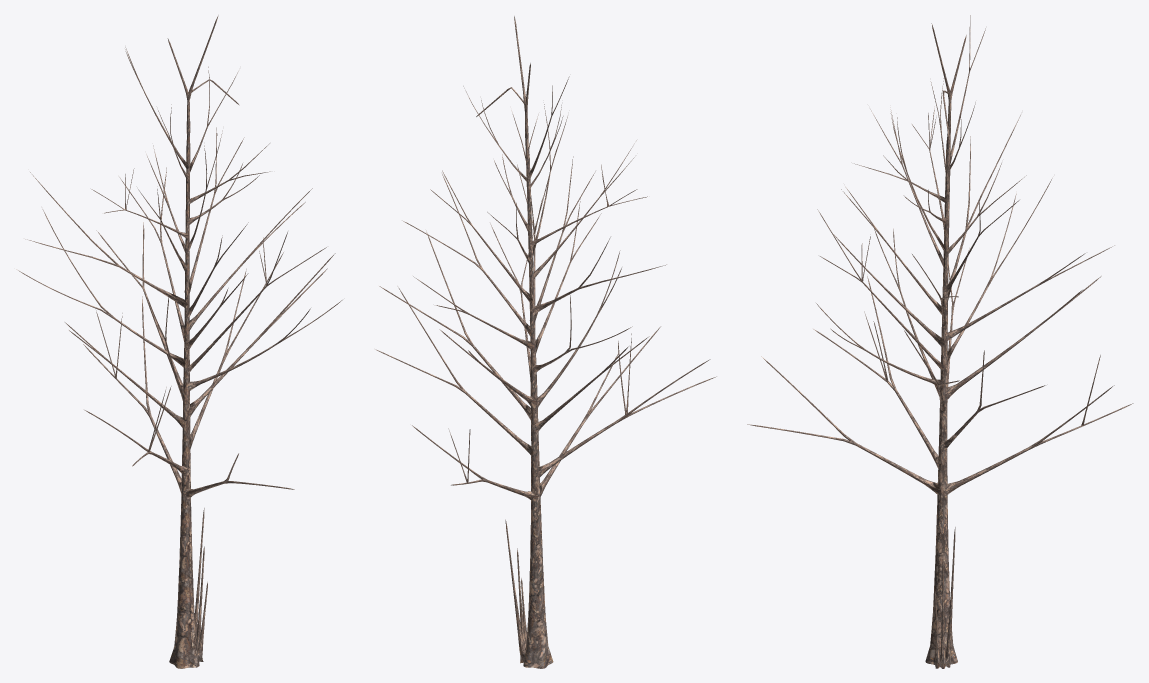
Rendered from Tree7.glb.
3 views of the same model, side by side, from view 1: azimuth 30°, elevation 25°; view 2: azimuth 150°, elevation 25°; view 3: azimuth 270°, elevation 25° (orthographic). The views are drawn at different scales.
Visible parts, largest first — view 1: tronc_bas, tronc_haut, bark09_0.025, bark09_0.018, bark09_0.013, bark09_0.008, bark09_0.022, bark09_0.003, bark09_0.033, bark09_0.009, bark09_0.014, bark09_0.019 (+1 smaller); view 2: tronc_bas, tronc_haut, bark09_0.018, bark09_0.024, bark09_0.026, bark09_0.022, bark09_0.003, bark09_0.025, bark09_0.010; view 3: tronc_bas, tronc_haut, bark09_0.026, bark09_0.025, bark09_0.024, bark09_0.014, bark09_0.008, bark09_0.019.
Boxes of the visible parts, bbox=[...] form: tronc_bas: bbox=[169, 392, 199, 668]; tronc_haut: bbox=[183, 101, 190, 393]; bark09_0.025: bbox=[83, 296, 181, 492]; bark09_0.018: bbox=[188, 253, 335, 416]; bark09_0.013: bbox=[25, 172, 188, 307]; bark09_0.008: bbox=[16, 209, 185, 367]; bark09_0.022: bbox=[198, 252, 283, 417]; bark09_0.003: bbox=[187, 188, 312, 331]; bark09_0.033: bbox=[186, 232, 326, 372]; bark09_0.009: bbox=[186, 300, 342, 391]; bark09_0.014: bbox=[96, 222, 183, 400]; bark09_0.019: bbox=[119, 167, 184, 341]; tronc_bas: bbox=[523, 396, 553, 668]; tronc_haut: bbox=[525, 113, 537, 397]; bark09_0.018: bbox=[379, 230, 532, 420]; bark09_0.024: bbox=[550, 359, 716, 465]; bark09_0.026: bbox=[540, 326, 660, 496]; bark09_0.022: bbox=[375, 287, 509, 431]; bark09_0.003: bbox=[402, 174, 531, 336]; bark09_0.025: bbox=[412, 425, 538, 501]; bark09_0.010: bbox=[537, 250, 621, 407]; tronc_bas: bbox=[925, 390, 957, 667]; tronc_haut: bbox=[940, 101, 951, 390]; bark09_0.026: bbox=[747, 356, 940, 494]; bark09_0.025: bbox=[944, 385, 1133, 494]; bark09_0.024: bbox=[813, 276, 934, 453]; bark09_0.014: bbox=[944, 276, 1101, 400]; bark09_0.008: bbox=[947, 178, 1052, 362]; bark09_0.019: bbox=[945, 245, 1114, 341].
Size of the model in its own units: 2.79 by 5.71 by 3.09.
Materials: 1 (1 with a texture image).
